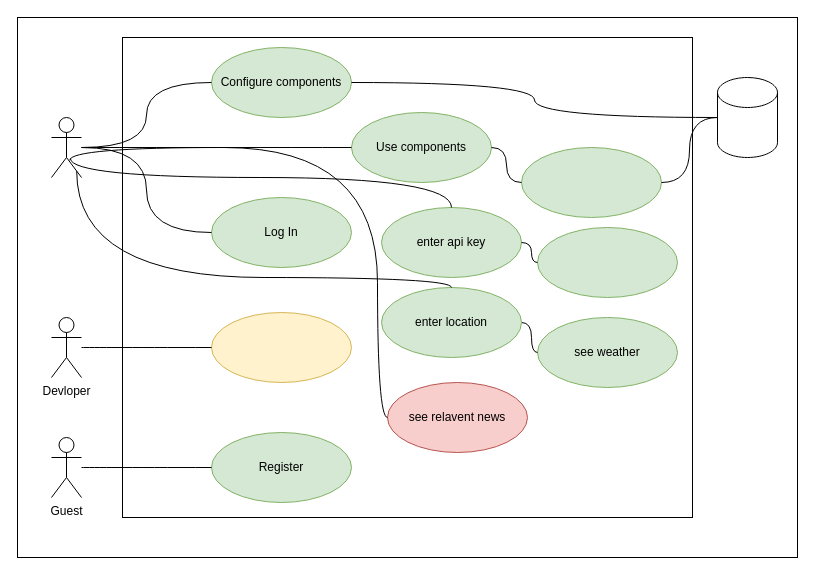
This 815x575 diagram has some shape labels left out. Here are the shapes that lost their labels. From the top down, the box of each, then its label:
(716, 76, 778, 158): DB
(50, 116, 82, 178): User
(520, 146, 662, 218): update/ use configuration
(536, 226, 678, 298): watch Calendar
(210, 312, 352, 382): Create components
